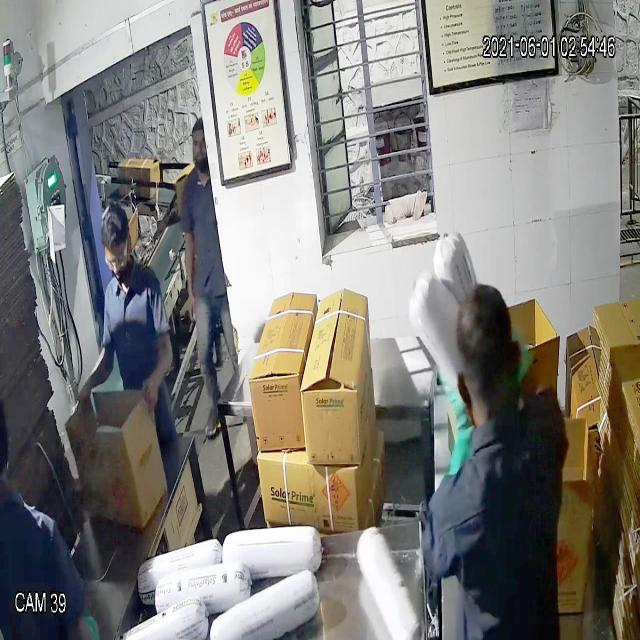glasses: (101, 238, 133, 276)
